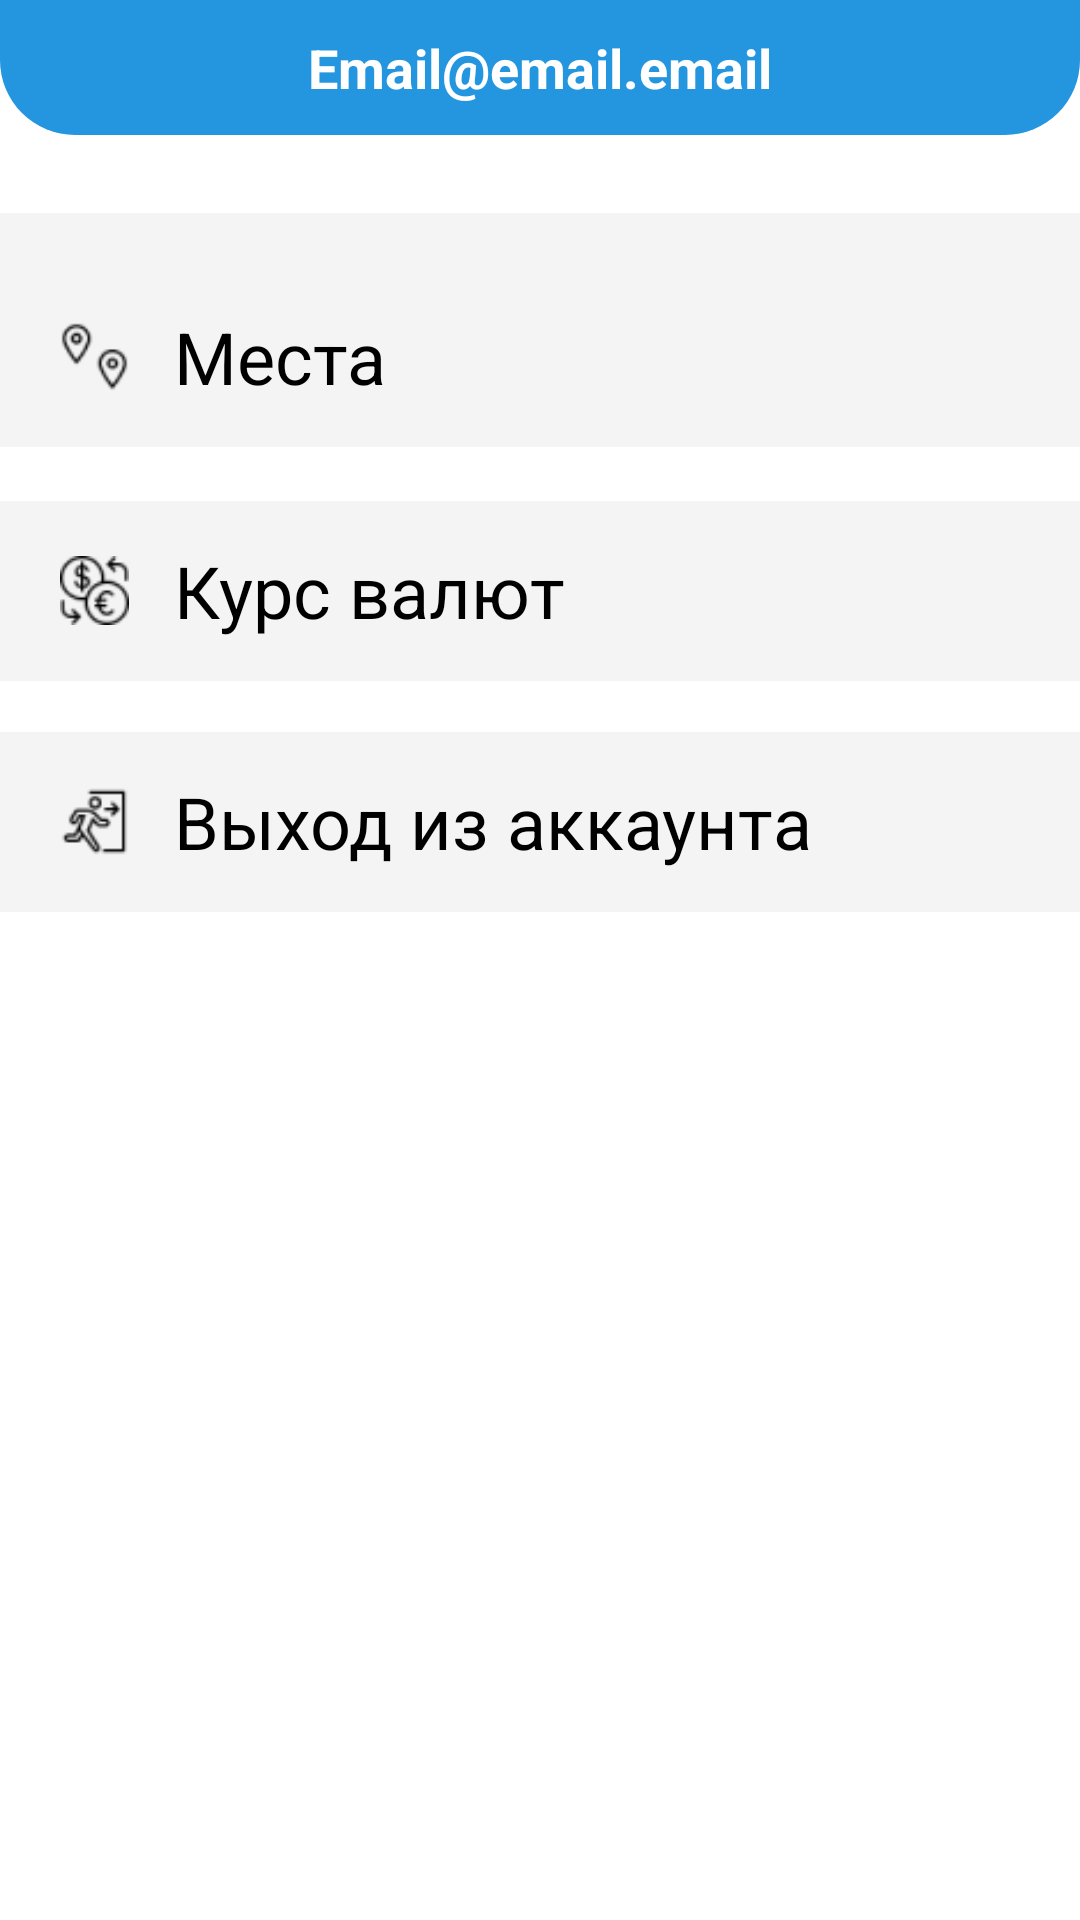

Icons on this 1080w x 1920h Android screen, each with the point to tap as (x,y):
dollar euro exchange: (94,590)
emergency exit: (94,821)
map pinpoint: (94,356)
